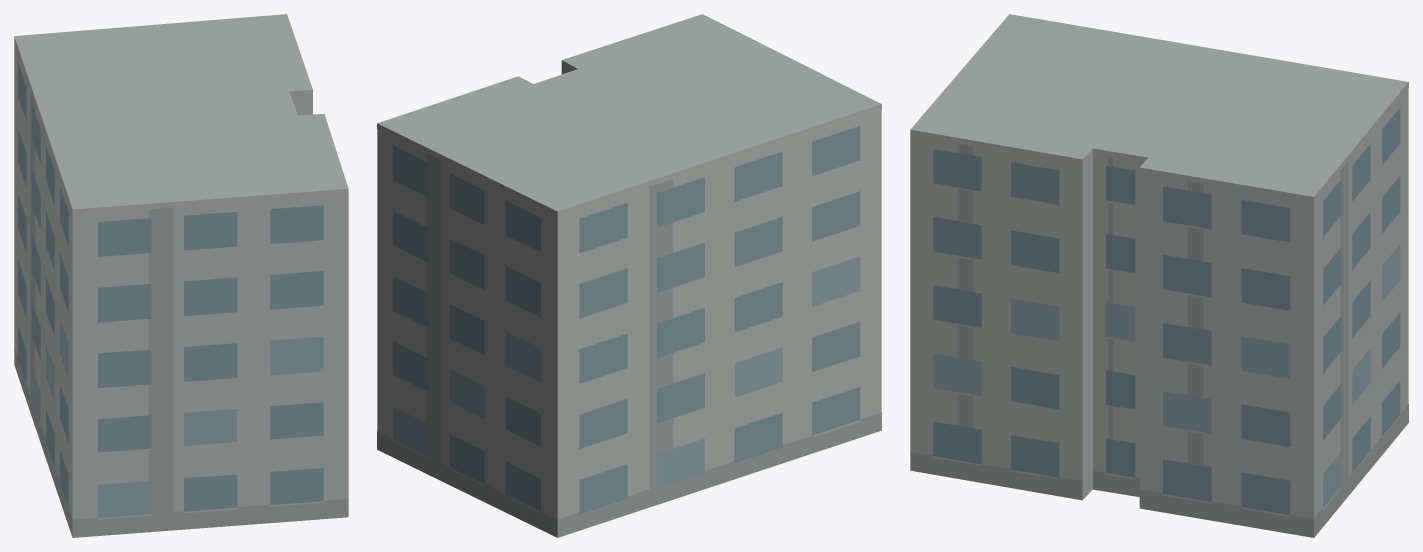
File: survey-upis-32786468.glb
The picture shows the model from 3 angles, left to right: view 1: azimuth 30°, elevation 25°; view 2: azimuth 150°, elevation 25°; view 3: azimuth 270°, elevation 25°; orthographic projection. The views are drawn at different scales.
Parts seen in each view (by area): view 1: survey-upis-32786468.tmp; view 2: survey-upis-32786468.tmp; view 3: survey-upis-32786468.tmp.
Boxes of the visible parts, <box> form: survey-upis-32786468.tmp: <box>14,14,348,537</box>; survey-upis-32786468.tmp: <box>377,14,881,537</box>; survey-upis-32786468.tmp: <box>910,14,1408,537</box>.
Size of the model in its own units: 16.46 by 14.3 by 18.96.
